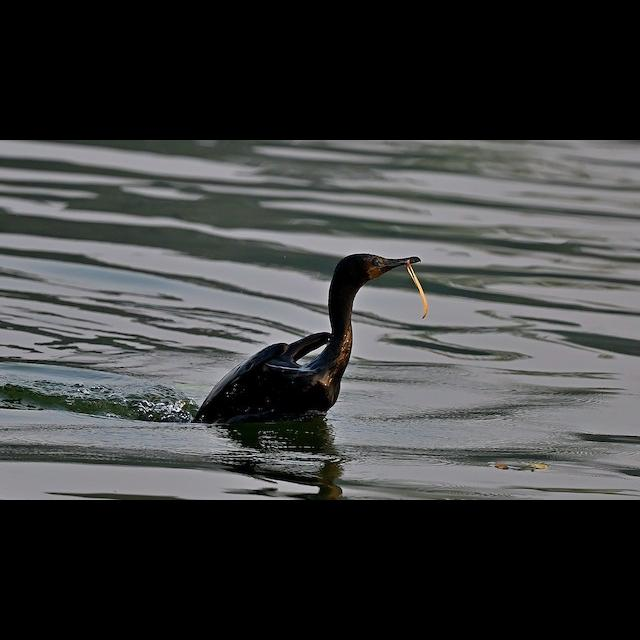cormorant: (187, 248, 431, 426)
